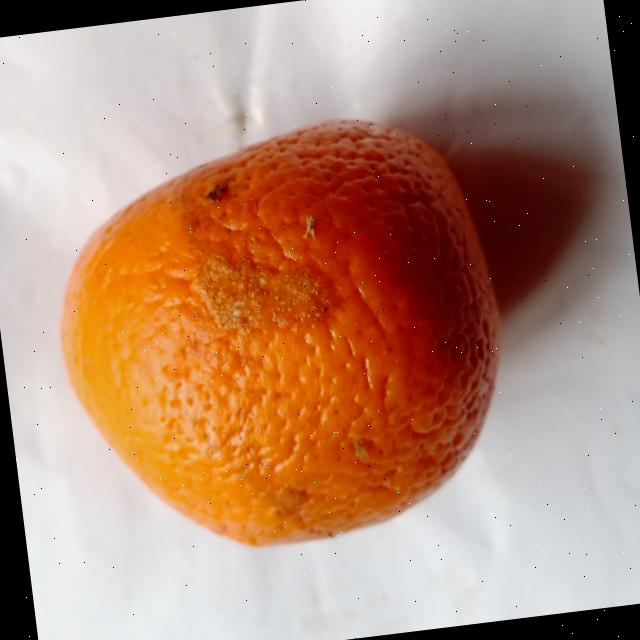overripe: (34, 95, 535, 579)
